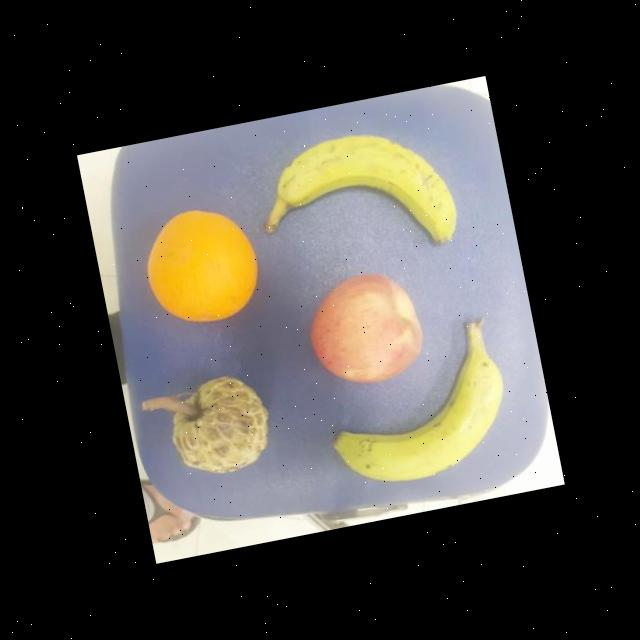Sakya fruit: (162, 368, 279, 482)
apple: (299, 263, 430, 393)
banana: (313, 314, 519, 492), (250, 118, 461, 276)
orange: (136, 200, 265, 333)
